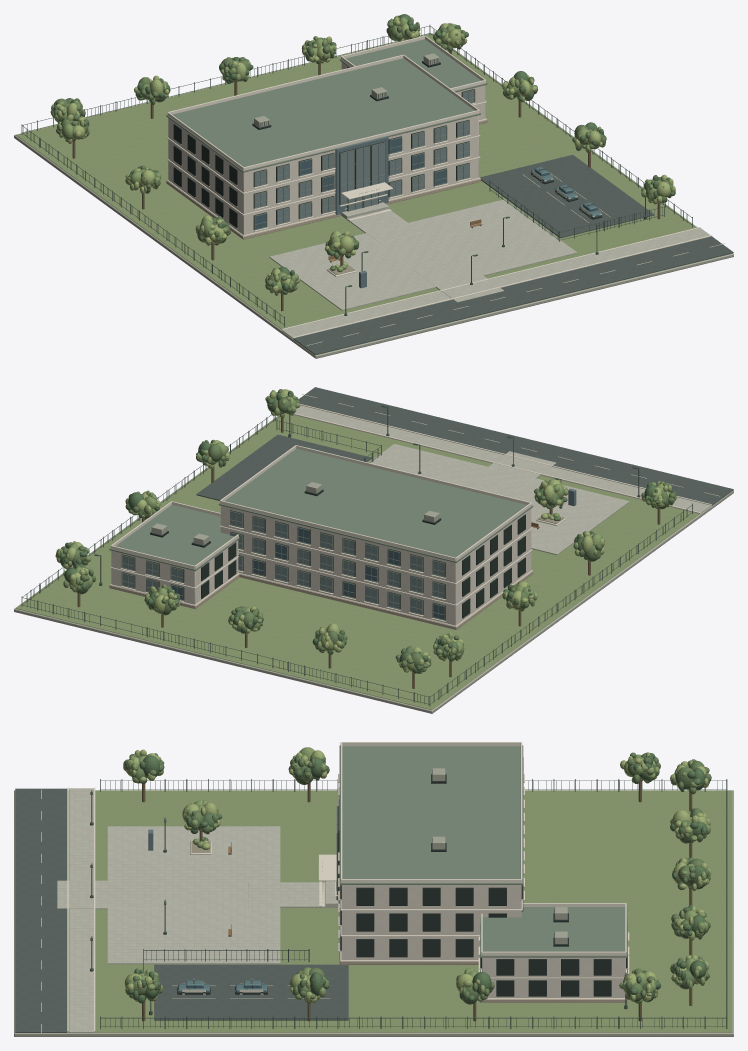
The model's file is police-intact.glb.
The picture shows the model from 3 angles, top to bottom: view 1: azimuth 30°, elevation 25°; view 2: azimuth 150°, elevation 25°; view 3: azimuth 270°, elevation 25°; orthographic projection. The views are drawn at different scales.
Parts seen in each view (by area): view 1: 材质批次_grass, 材质批次_plaza_paving, 材质批次_sage_metal_roof, 材质批次_asphalt, 材质批次_limestone, 材质批次_warm_cream_trim, 材质批次_poi_window_lit, 材质批次_street_metal, 材质批次_leaf_2, 材质批次_poi_service_concrete, 材质批次_recess_shadow, 材质批次_window_frames (+7 smaller); view 2: 材质批次_grass, 材质批次_sage_metal_roof, 材质批次_limestone, 材质批次_plaza_paving, 材质批次_asphalt, 材质批次_warm_cream_trim, 材质批次_street_metal, 材质批次_recess_shadow, 材质批次_poi_window_lit, 材质批次_poi_service_concrete, 材质批次_window_frames, 材质批次_leaf_2 (+6 smaller); view 3: 材质批次_grass, 材质批次_plaza_paving, 材质批次_sage_metal_roof, 材质批次_asphalt, 材质批次_limestone, 材质批次_warm_cream_trim, 材质批次_recess_shadow, 材质批次_street_metal, 材质批次_poi_service_concrete, 材质批次_leaf_1, 材质批次_leaf_3, 材质批次_leaf_2 (+5 smaller).
Part boxes in pixels (box(x1,y1,x2,y2)): 材质批次_grass: box(16, 33, 696, 329); 材质批次_plaza_paving: box(269, 199, 709, 338); 材质批次_sage_metal_roof: box(166, 39, 487, 172); 材质批次_asphalt: box(293, 154, 733, 355); 材质批次_limestone: box(168, 62, 485, 276); 材质批次_warm_cream_trim: box(167, 35, 711, 338); 材质批次_poi_window_lit: box(255, 90, 474, 223); 材质批次_street_metal: box(21, 25, 692, 327); 材质批次_leaf_2: box(51, 15, 675, 292); 材质批次_poi_service_concrete: box(14, 33, 733, 358); 材质批次_recess_shadow: box(173, 61, 602, 229); 材质批次_window_frames: box(254, 89, 475, 230); 材质批次_grass: box(16, 413, 698, 709); 材质批次_sage_metal_roof: box(109, 448, 533, 570); 材质批次_limestone: box(111, 506, 565, 625); 材质批次_plaza_paving: box(295, 405, 710, 554); 材质批次_asphalt: box(196, 387, 733, 505); 材质批次_warm_cream_trim: box(110, 404, 711, 626); 材质批次_street_metal: box(21, 405, 692, 706); 材质批次_recess_shadow: box(121, 489, 525, 620); 材质批次_poi_window_lit: box(122, 512, 444, 614); 材质批次_poi_service_concrete: box(14, 415, 733, 713); 材质批次_window_frames: box(121, 511, 445, 620); 材质批次_leaf_2: box(55, 389, 677, 672); 材质批次_grass: box(68, 790, 732, 1032); 材质批次_plaza_paving: box(57, 788, 338, 1032); 材质批次_sage_metal_roof: box(339, 745, 627, 957); 材质批次_asphalt: box(15, 788, 348, 1032); 材质批次_limestone: box(190, 841, 625, 997); 材质批次_warm_cream_trim: box(67, 742, 629, 1032); 材质批次_recess_shadow: box(177, 774, 626, 996); 材质批次_street_metal: box(90, 770, 727, 1028); 材质批次_poi_service_concrete: box(14, 768, 733, 1036); 材质批次_leaf_1: box(125, 752, 711, 1004); 材质批次_leaf_3: box(123, 753, 710, 1003); 材质批次_leaf_2: box(124, 749, 711, 1002).
Size of the model in its own units: 80.5 by 14.55 by 100.
Materials: 27 (5 with a texture image).
